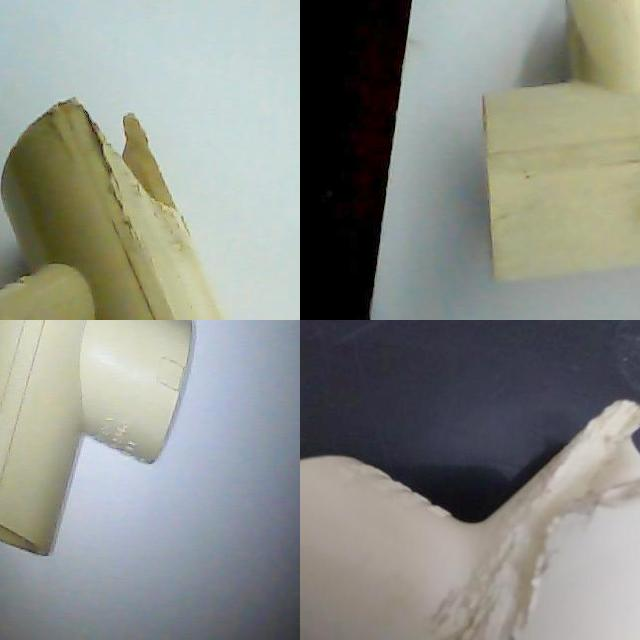Defective: (76, 98, 182, 216), (478, 514, 553, 640), (585, 395, 640, 513), (552, 461, 599, 557)
T Joint: (0, 99, 224, 320)
